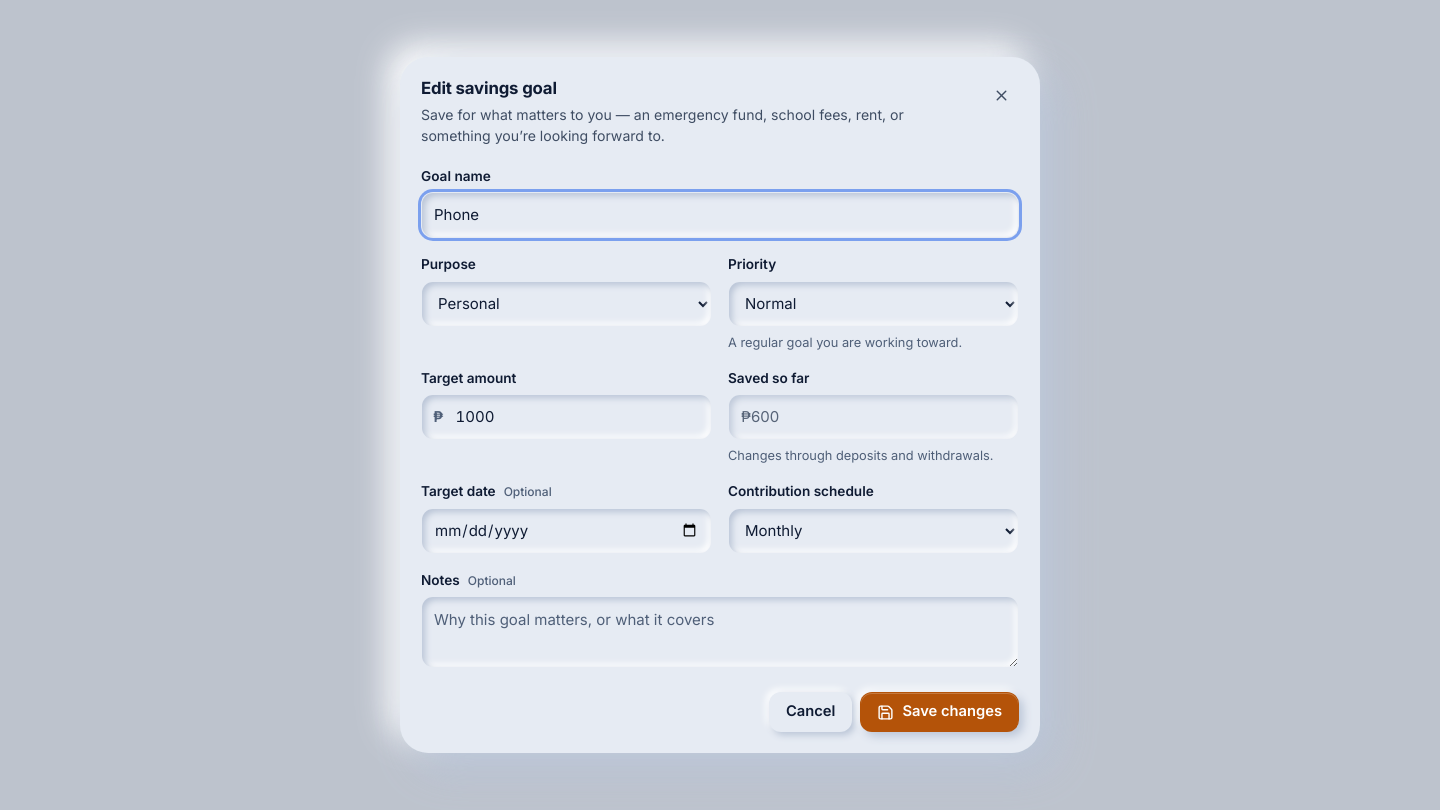
Scenario: GoalModal › blocks lowering the target under the amount already saved when editing
Step 1. Replace the text in the number field labelled "Target amount" with "500" → (566, 417), box [421, 394, 712, 440]
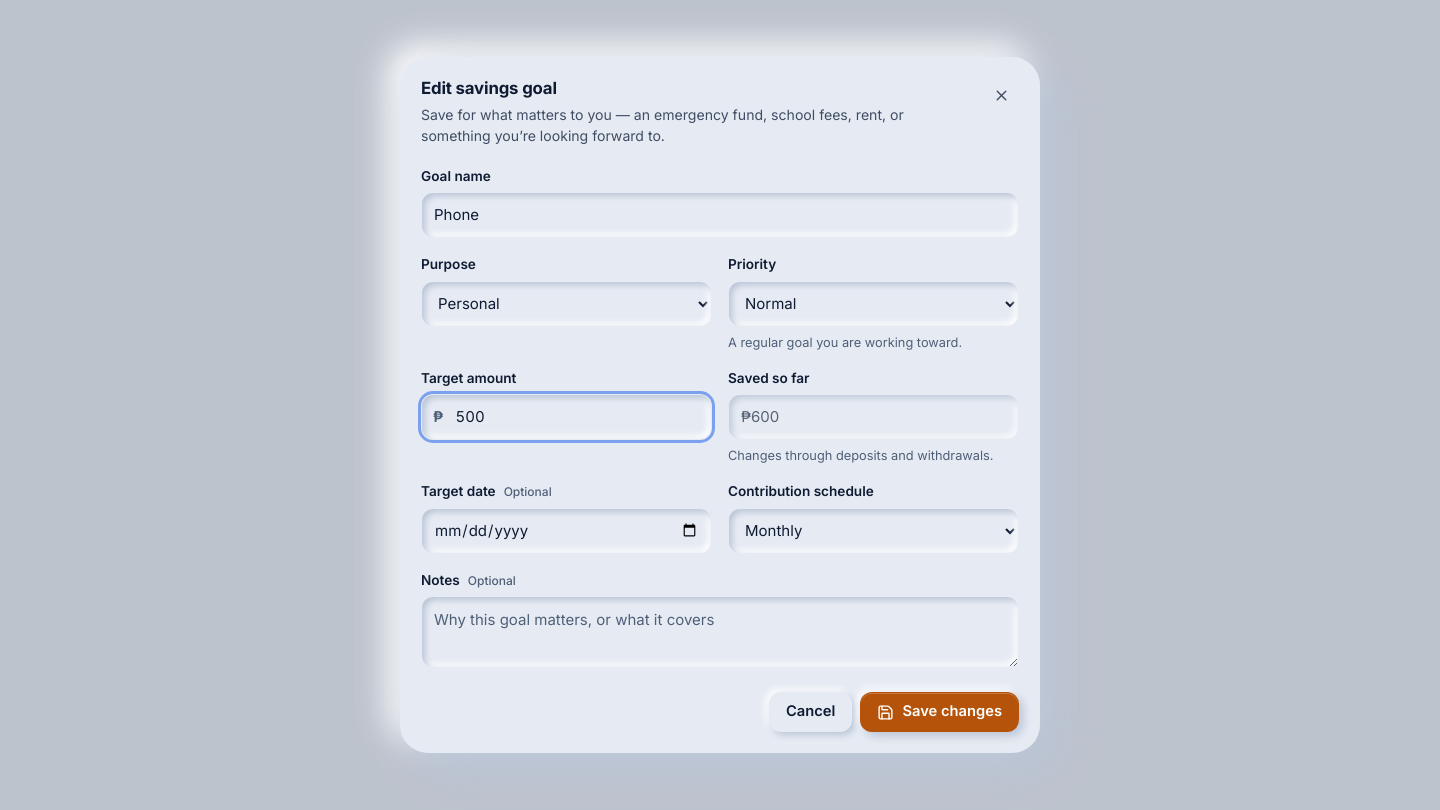
Step 2. Click the button "Save changes" → (940, 712), box [860, 692, 1019, 732]
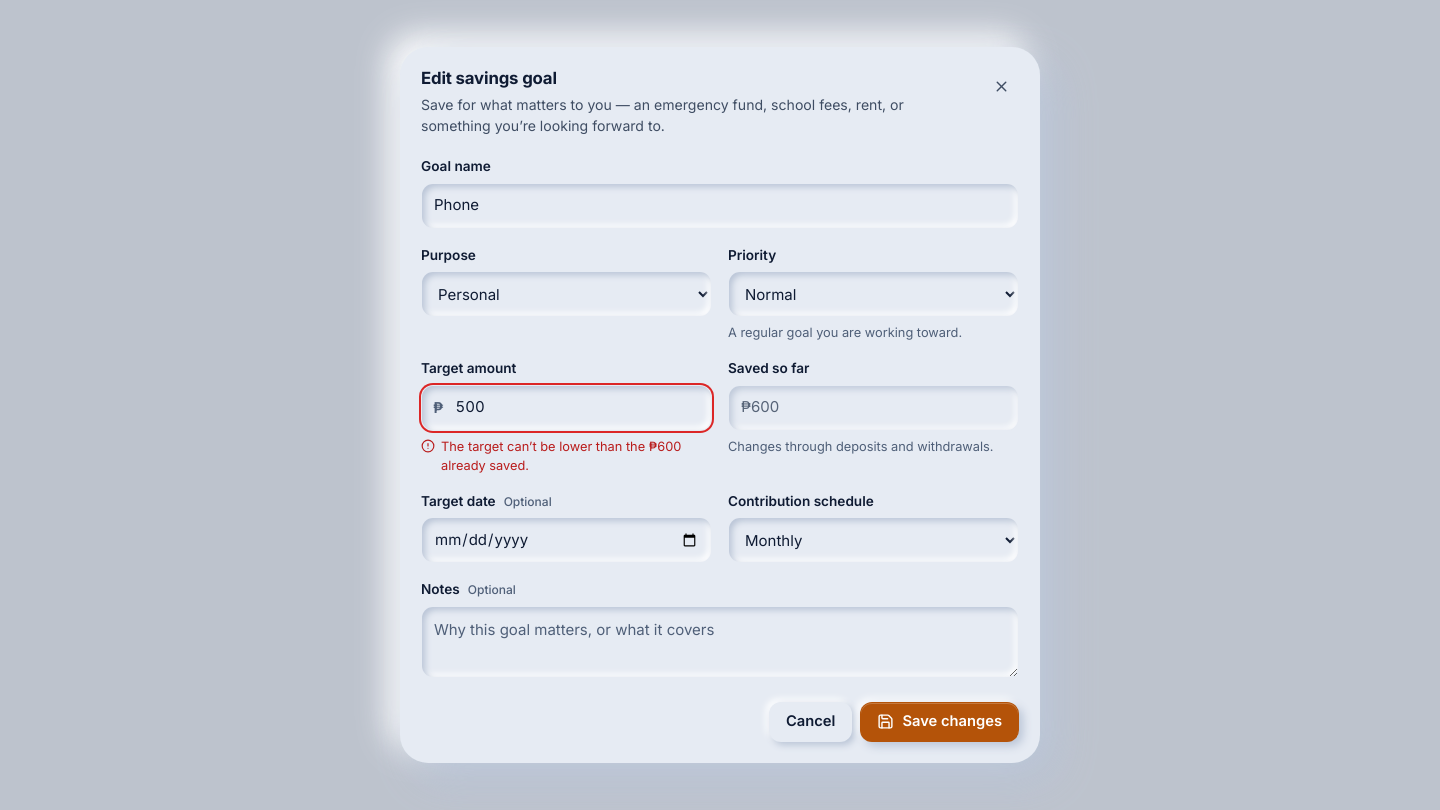
Check: the text "The target can’t be lower than the ₱600 already saved." is shown, box [421, 437, 712, 475]
